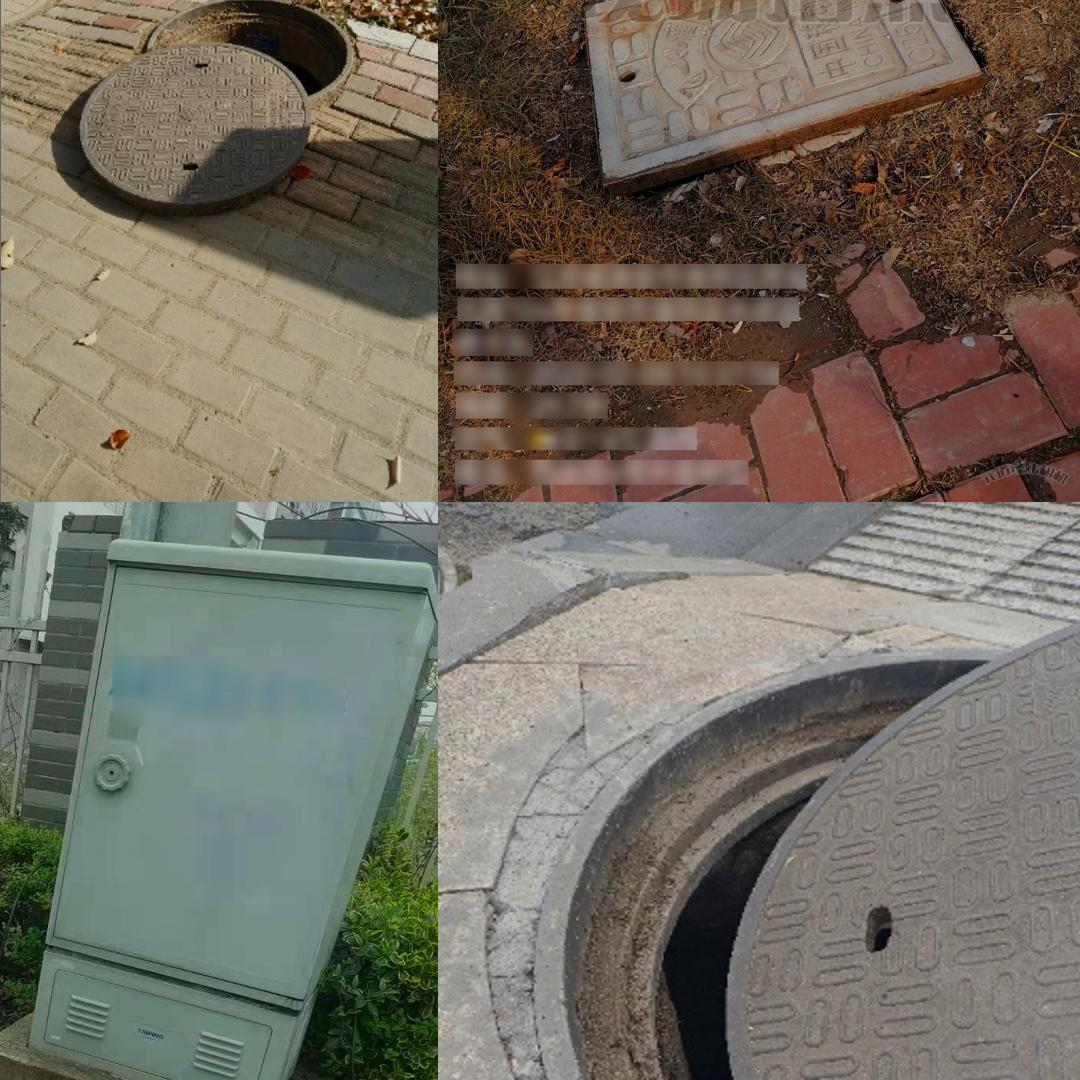uncovered: (533, 584, 1080, 1080), (583, 0, 980, 184), (71, 0, 373, 204)
